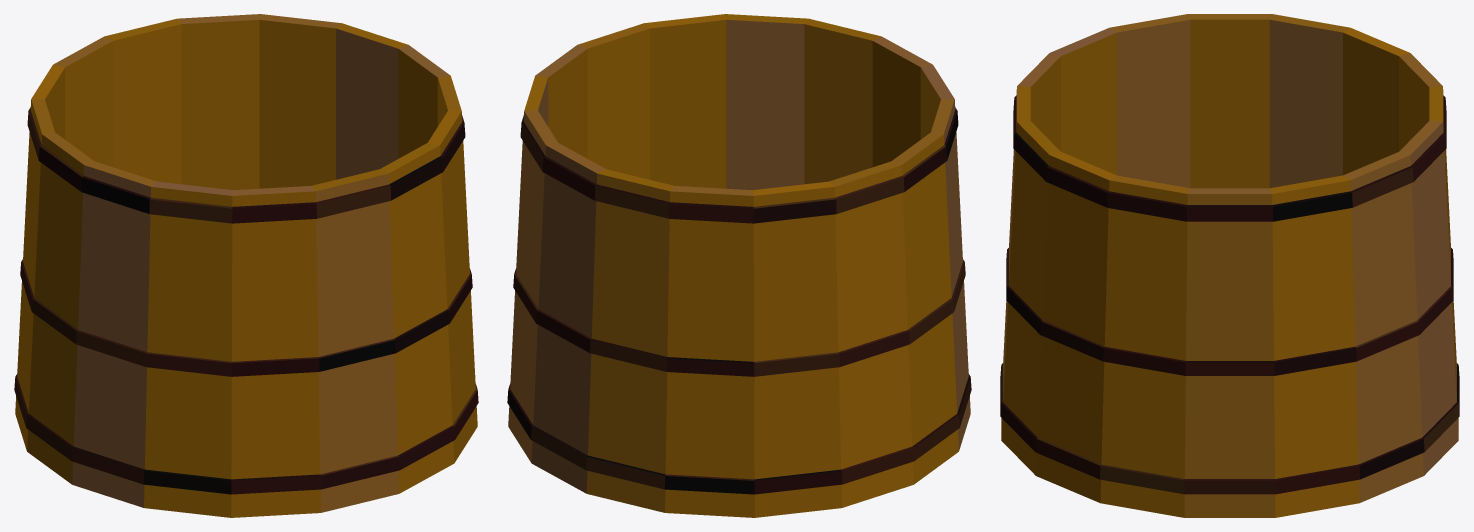
Rendered from MeadTubEmpty.glb.
3 renders of one model, left to right at view 1: azimuth 30°, elevation 25°; view 2: azimuth 150°, elevation 25°; view 3: azimuth 270°, elevation 25°, orthographic.
Parts seen in each view (by area): view 1: MeadTubEmpty; view 2: MeadTubEmpty; view 3: MeadTubEmpty.
Part boxes in pixels (x1=…): MeadTubEmpty: x1=14, y1=14, x2=478, y2=517; MeadTubEmpty: x1=507, y1=14, x2=971, y2=517; MeadTubEmpty: x1=1000, y1=14, x2=1459, y2=517.
Size of the model in its own units: 1.97 by 1.5 by 1.97.
